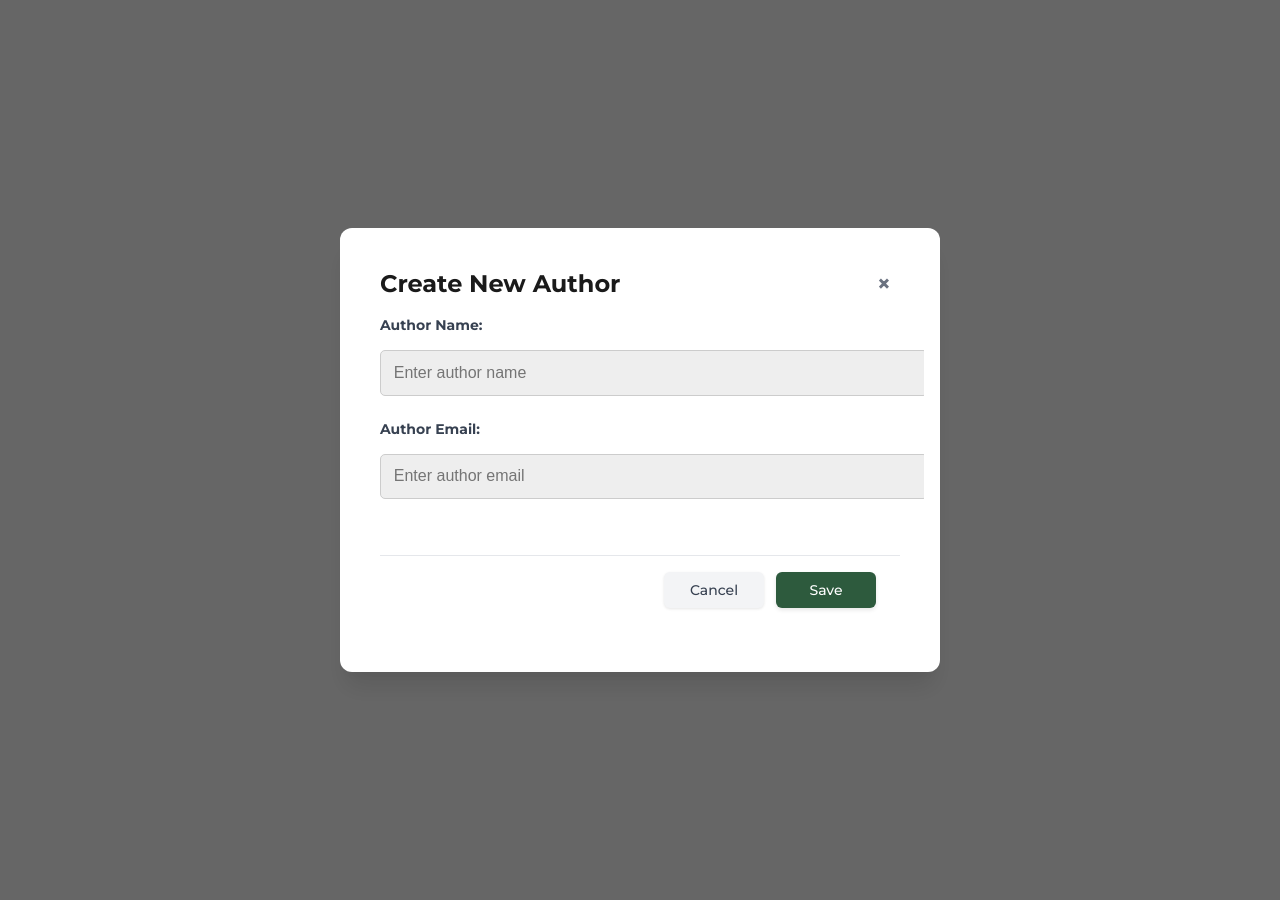
Test: AuthorModal › exibe erro quando email está vazio
This screenshot has width=1280, height=900.
Step 1. Type "João" into the field with placeholder "Enter author name" → (654, 373), box [380, 350, 928, 396]
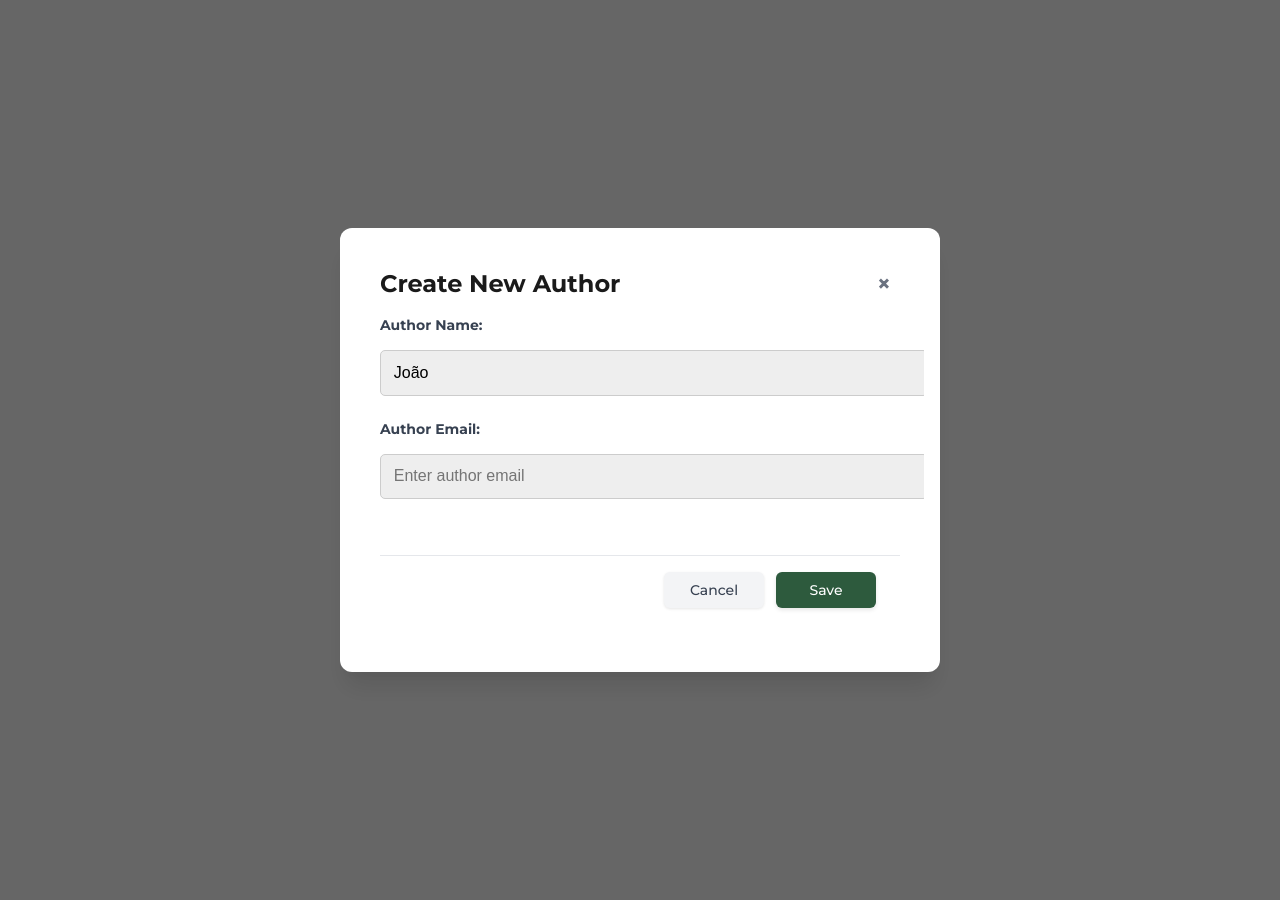
Step 2. Click the button "Save" → (826, 590), box [776, 572, 876, 608]
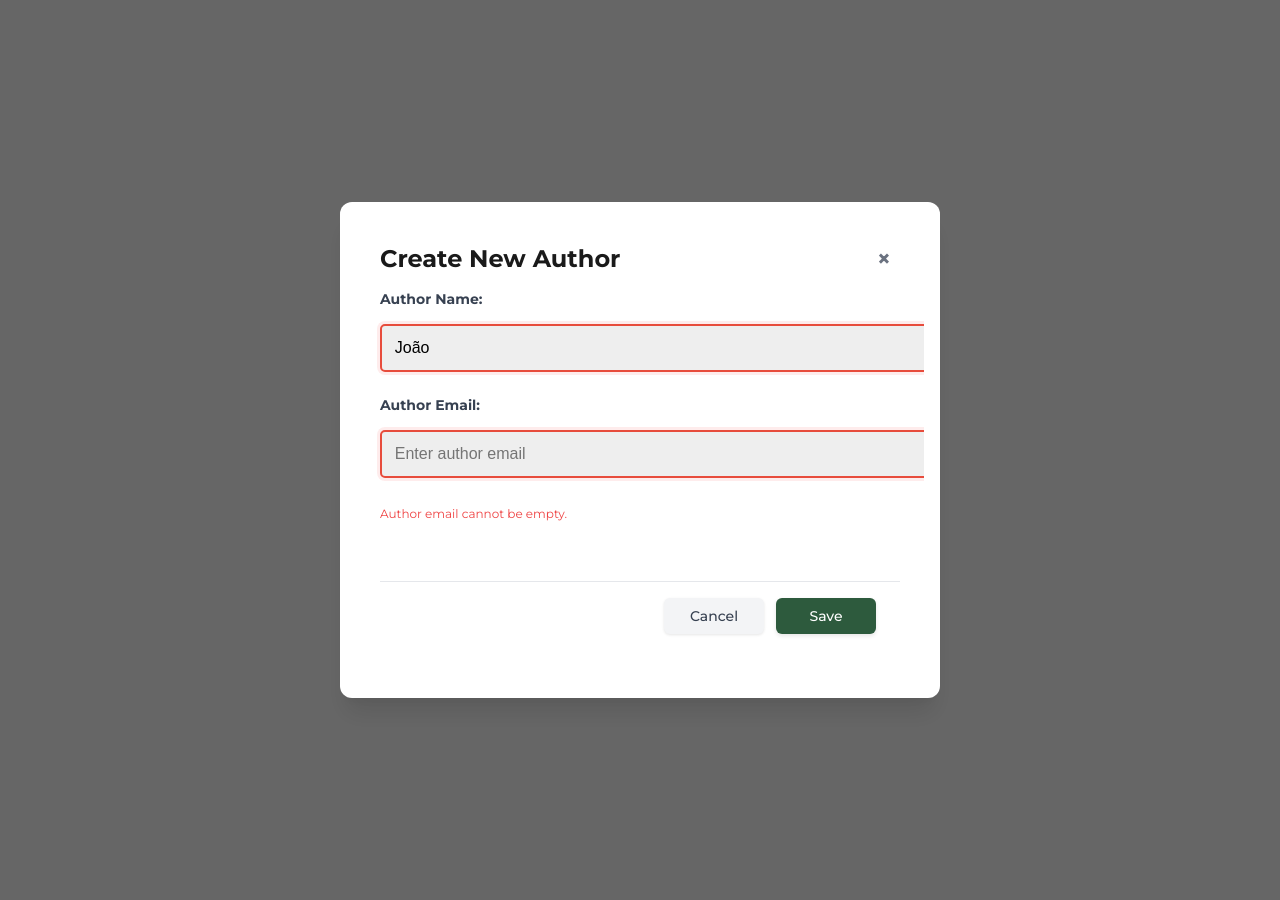
Expected: the text "Author email cannot be empty." is shown, [380, 506, 567, 521]
